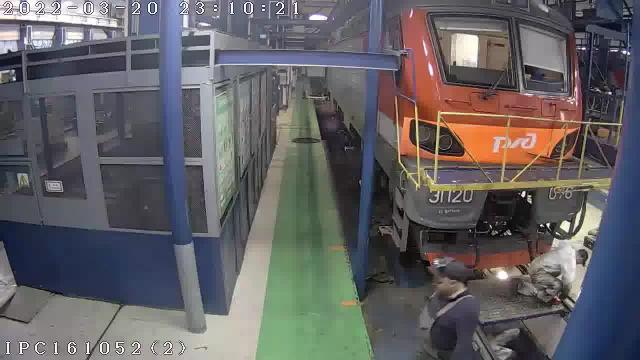person: (416, 258, 479, 359), (518, 241, 588, 303)
train: (376, 0, 586, 268)
